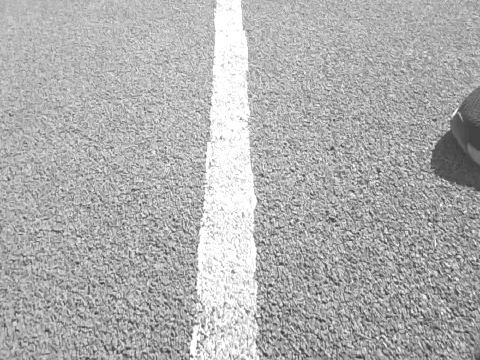Lines: (188, 0, 258, 360)
